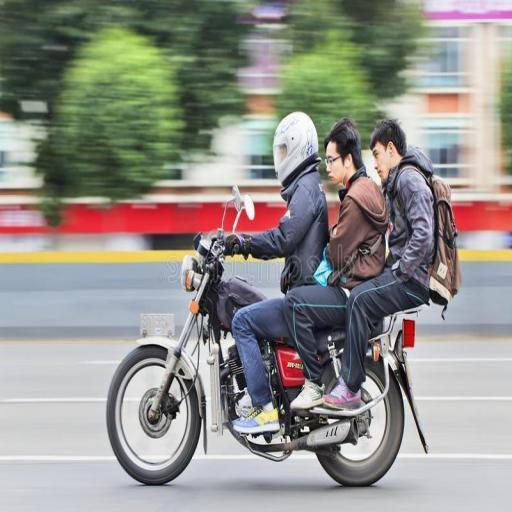helmet: (256, 94, 325, 209)
triple riding: (94, 84, 478, 500)
